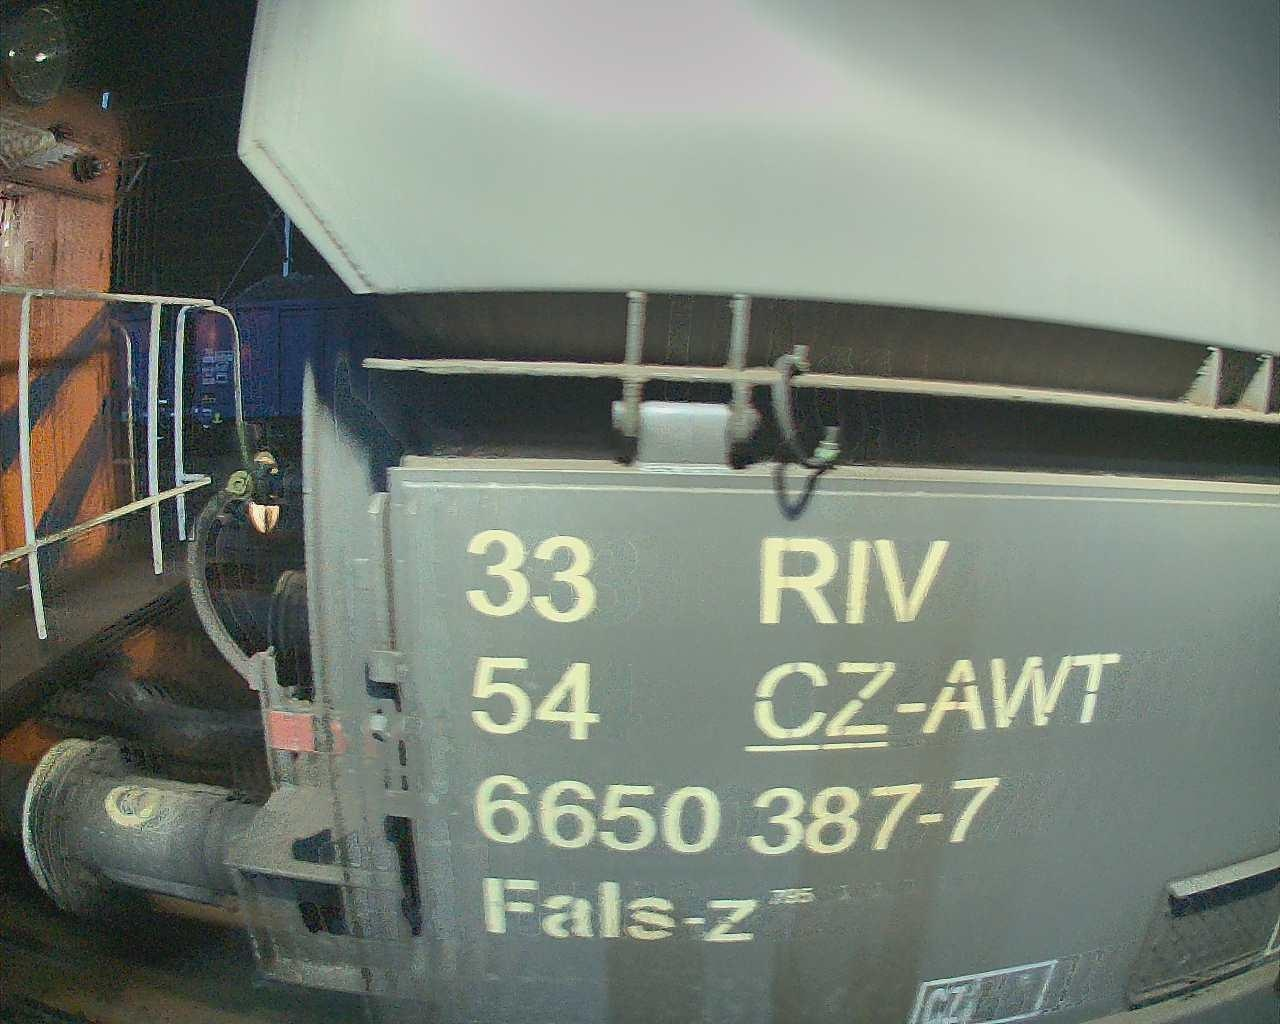UIC: (464, 523, 1126, 947)
